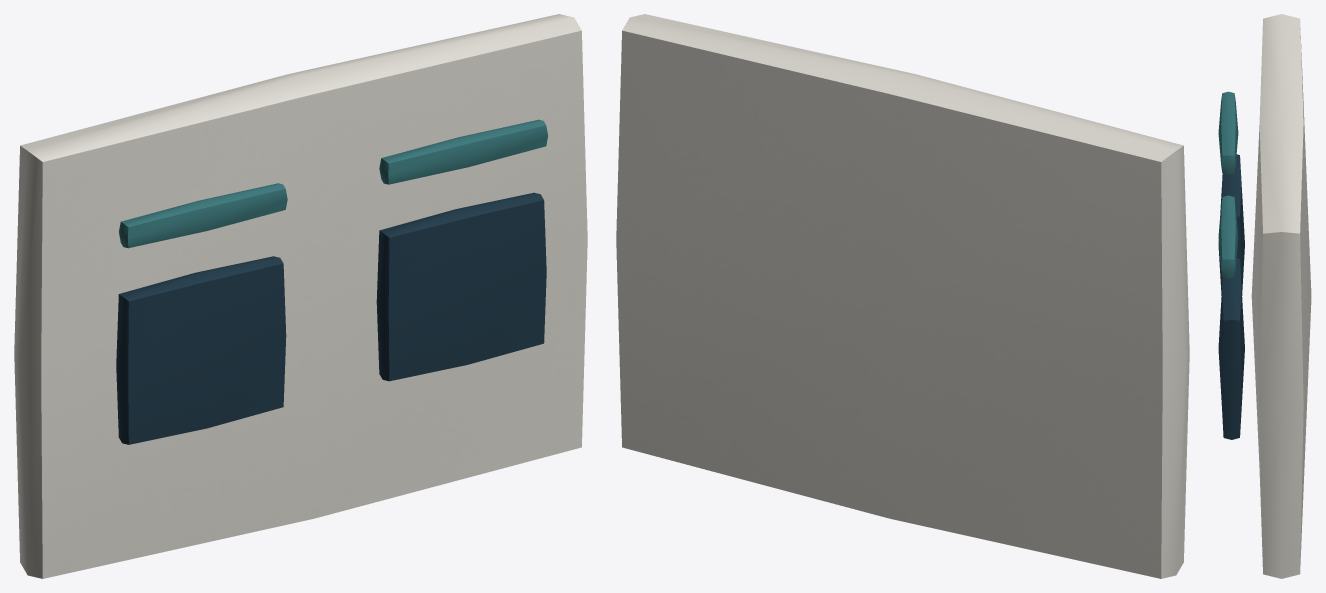
Rendered from data-outlet.glb.
3 views of the same model, side by side, from view 1: azimuth 30°, elevation 25°; view 2: azimuth 150°, elevation 25°; view 3: azimuth 270°, elevation 25° (orthographic). The views are drawn at different scales.
Visible parts, largest first — view 1: data-outlet; view 2: data-outlet; view 3: data-outlet.
Part boxes in pixels (x1,y1,x2,y2): data-outlet: (14, 14, 587, 578); data-outlet: (616, 14, 1189, 578); data-outlet: (1218, 14, 1311, 578).
Size of the model in its own units: 0.16 by 0.12 by 0.028.
Materials: 5 (5 with a texture image).
